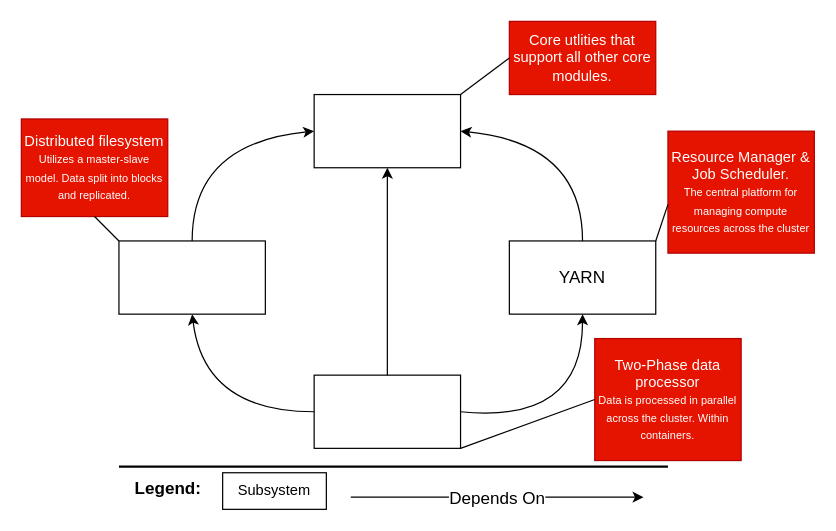
Some shapes in this 836 by 531 pixel diagram are drawn without their labels. The shapes that lost their labels are listed below. From the top down, each one's centre as x and y in pixels, then its label:
(x=387, y=130): The Common
(x=191, y=277): HDFS
(x=387, y=411): Map Reduce
